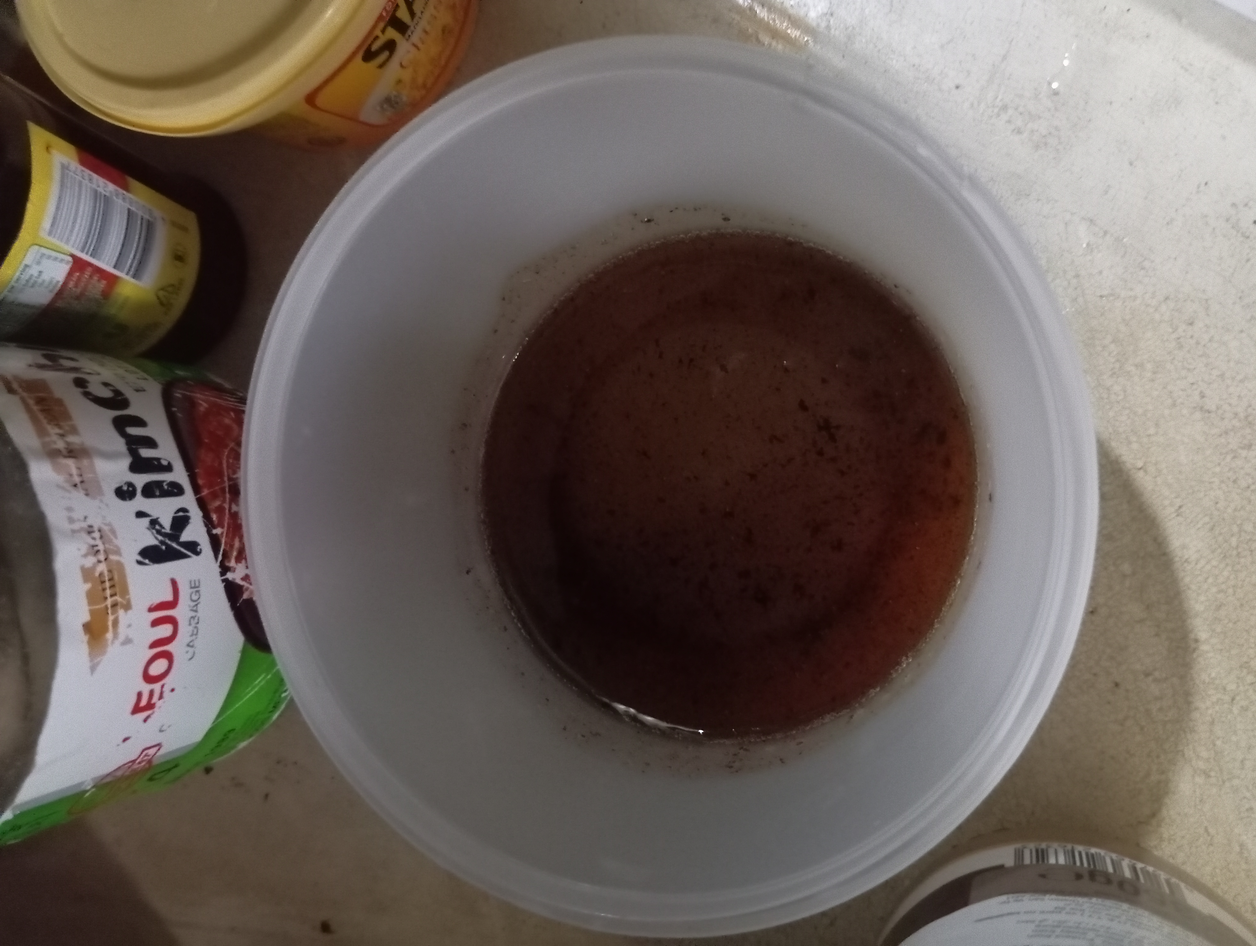non-reusable: (486, 234, 976, 739)
